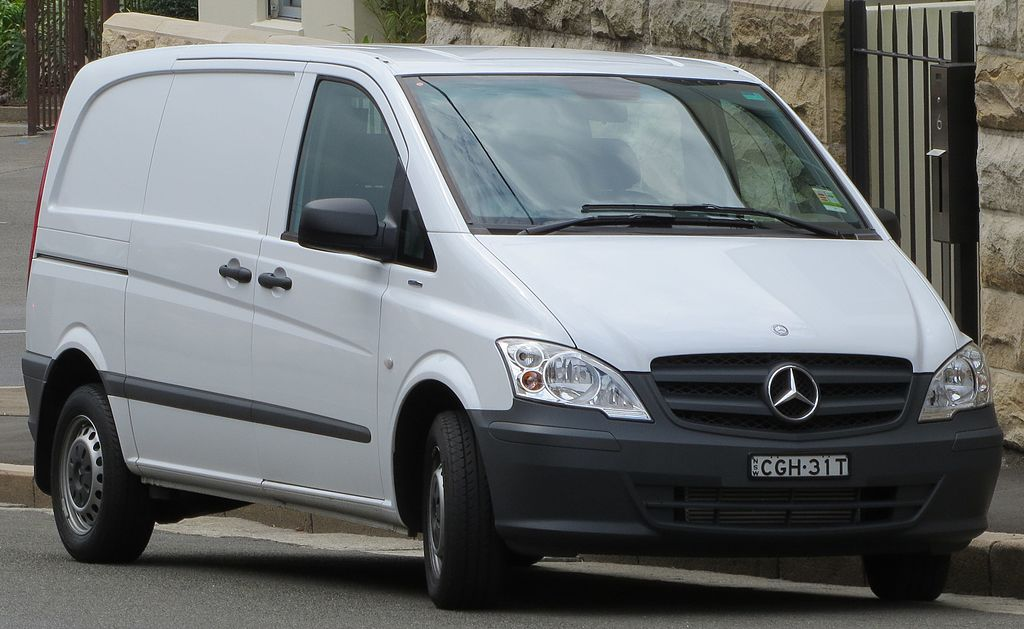van: (18, 44, 1003, 610)
